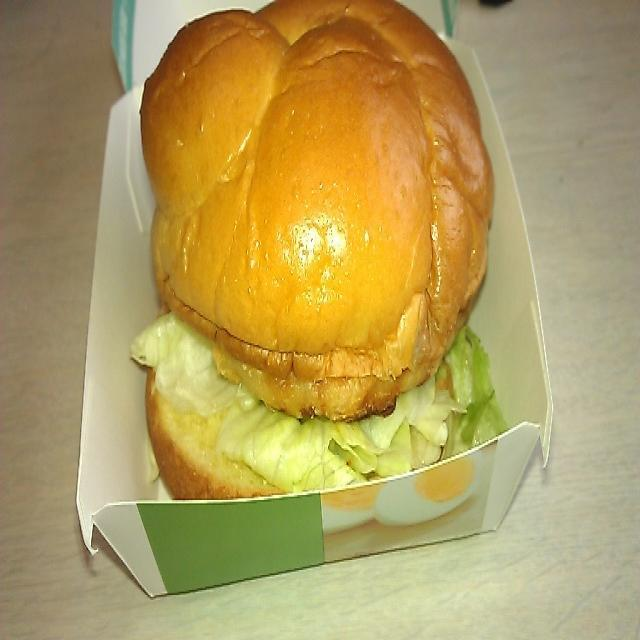Hamburger: (91, 0, 440, 352)
